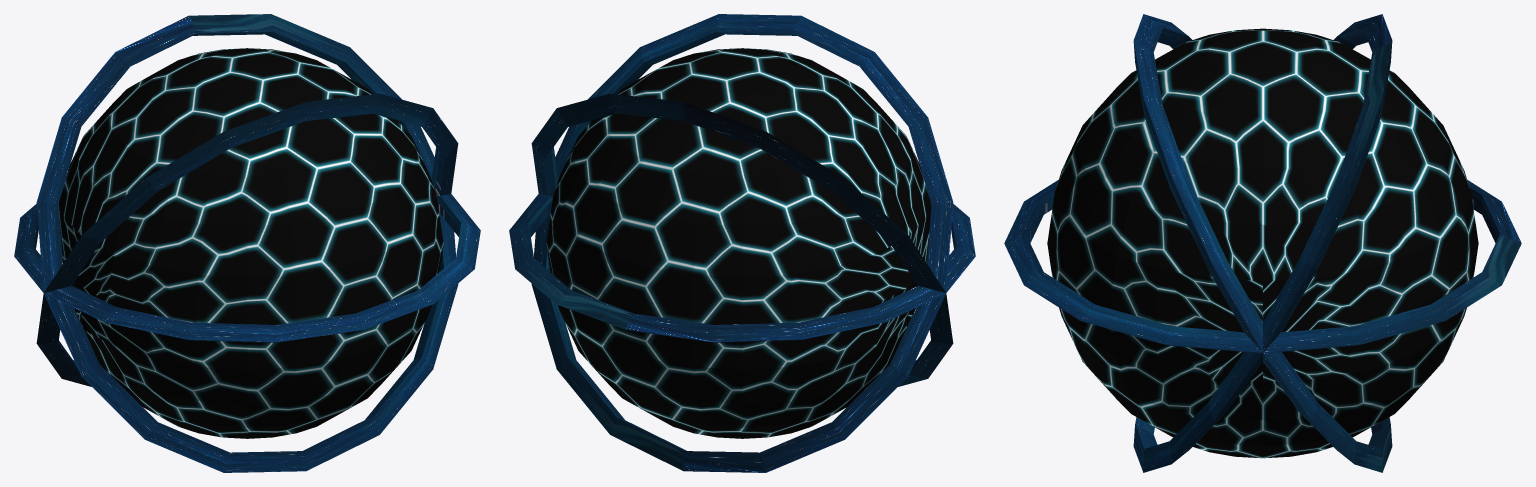
File: Blink.FBX
3 views of the same model, side by side, from view 1: azimuth 30°, elevation 25°; view 2: azimuth 150°, elevation 25°; view 3: azimuth 270°, elevation 25° (orthographic). The views are drawn at different scales.
Parts seen in each view (by area): view 1: Blink; view 2: Blink; view 3: Blink.
Part boxes in pixels (<box>): Blink: <box>14,14,480,472</box>; Blink: <box>509,14,975,472</box>; Blink: <box>1004,14,1521,472</box>.
Size of the model in its own units: 36 by 31.18 by 36.
Materials: 3 (3 with a texture image).
